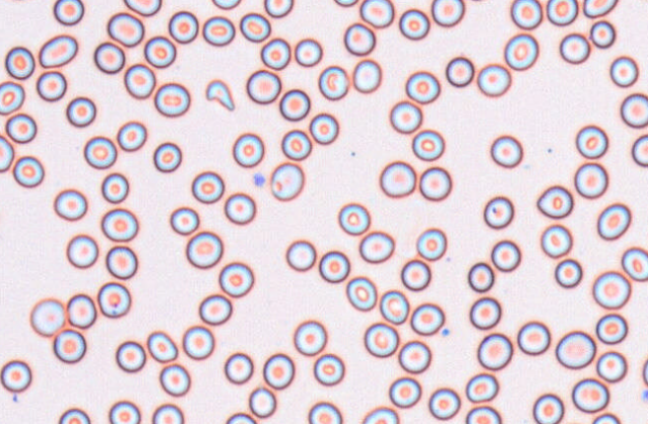PLT: (252, 172, 267, 188), (442, 328, 452, 337), (642, 389, 648, 402)
RBC: (555, 330, 596, 369), (592, 270, 631, 309), (185, 231, 223, 268), (29, 297, 65, 336), (379, 160, 416, 197), (571, 377, 609, 413), (476, 332, 512, 370), (269, 161, 304, 200), (106, 12, 144, 47), (596, 202, 631, 240), (38, 34, 77, 68), (218, 261, 254, 297), (573, 162, 608, 199), (101, 207, 138, 242), (154, 82, 190, 117), (97, 281, 131, 318), (504, 33, 538, 70), (363, 322, 398, 357), (293, 319, 327, 355), (536, 185, 573, 218), (52, 328, 86, 363), (246, 69, 281, 103), (516, 320, 550, 355), (358, 230, 394, 263), (262, 352, 294, 389), (83, 135, 117, 169), (405, 70, 440, 103), (575, 124, 608, 159), (123, 63, 155, 99), (53, 188, 87, 221), (410, 302, 444, 335), (477, 63, 511, 96), (419, 166, 451, 201), (540, 223, 572, 258), (345, 276, 377, 311), (66, 233, 98, 268), (232, 132, 264, 167), (389, 100, 422, 133), (191, 170, 224, 203), (398, 340, 431, 373), (337, 202, 370, 235), (143, 35, 176, 68), (0, 359, 32, 393), (105, 245, 137, 279), (198, 293, 232, 325), (490, 134, 522, 168), (182, 325, 214, 359), (318, 65, 349, 100), (66, 293, 96, 329), (388, 376, 421, 408), (343, 22, 375, 55), (411, 129, 444, 161), (469, 296, 501, 329), (318, 250, 350, 283), (93, 41, 125, 74), (428, 387, 460, 420), (4, 45, 35, 79), (379, 289, 409, 324), (146, 330, 178, 362), (12, 155, 44, 187), (400, 258, 431, 291), (159, 363, 190, 396), (415, 227, 446, 260), (490, 239, 521, 272), (202, 15, 235, 46), (313, 353, 344, 386), (279, 88, 310, 121), (352, 58, 381, 93), (620, 92, 648, 128), (596, 350, 627, 382), (115, 340, 146, 372), (285, 239, 316, 271), (532, 393, 564, 424), (224, 192, 255, 224), (595, 313, 627, 344), (398, 8, 429, 40), (559, 32, 590, 64), (260, 37, 290, 70), (465, 372, 498, 402), (168, 10, 198, 43), (483, 195, 513, 228), (359, 0, 394, 28), (116, 120, 147, 151), (5, 112, 36, 143), (65, 96, 96, 127), (223, 352, 253, 384), (621, 246, 648, 281), (239, 12, 270, 42), (281, 129, 311, 160), (36, 70, 66, 101), (510, 0, 542, 29), (309, 112, 338, 144), (609, 55, 638, 87), (445, 56, 474, 87), (152, 141, 181, 172), (248, 386, 276, 418), (169, 206, 199, 235), (100, 172, 128, 203), (431, 0, 464, 26), (554, 258, 582, 288), (294, 37, 322, 67), (467, 261, 494, 292), (546, 0, 578, 26), (0, 80, 24, 114), (307, 401, 342, 424), (52, 0, 84, 25), (108, 400, 140, 423), (589, 20, 615, 48), (465, 405, 501, 424), (361, 406, 399, 424), (151, 403, 183, 424), (582, 0, 618, 18), (122, 0, 161, 16), (631, 134, 648, 167), (57, 407, 90, 424), (0, 134, 14, 172), (263, 0, 293, 17), (224, 412, 257, 424), (591, 413, 621, 424), (211, 0, 241, 9), (642, 355, 648, 387), (333, 0, 358, 6), (1, 0, 38, 3), (465, 0, 493, 2)
Schistocyte: (204, 78, 235, 112)
